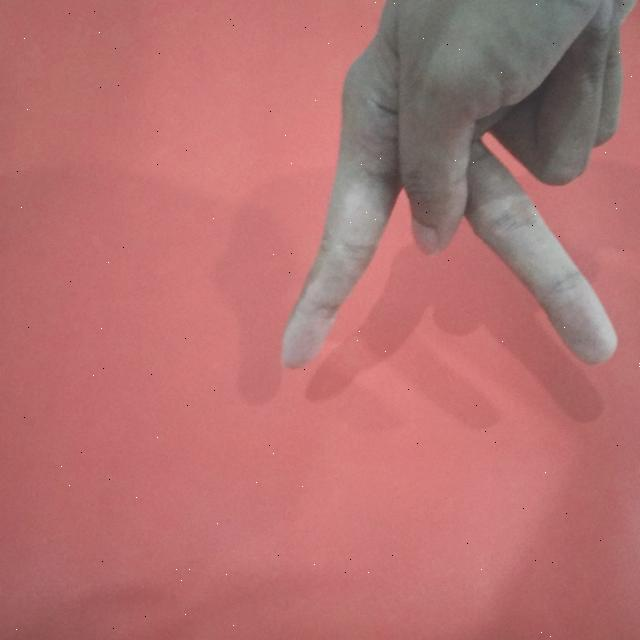P: (272, 0, 635, 382)
